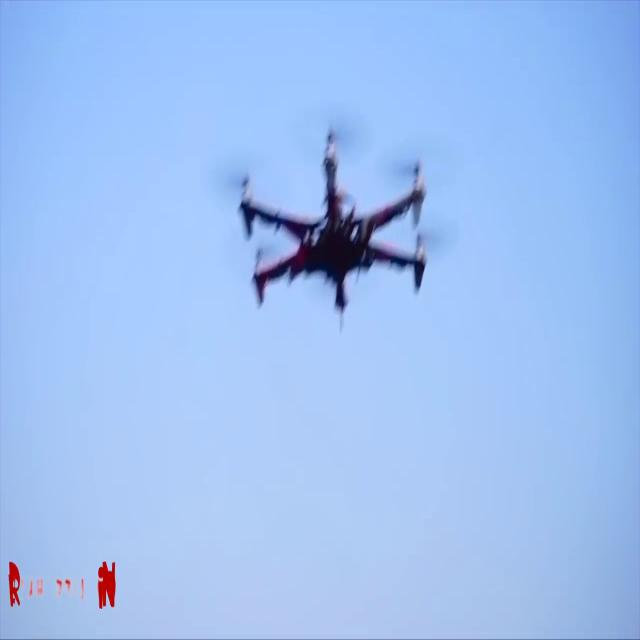drone: (216, 112, 426, 350)
